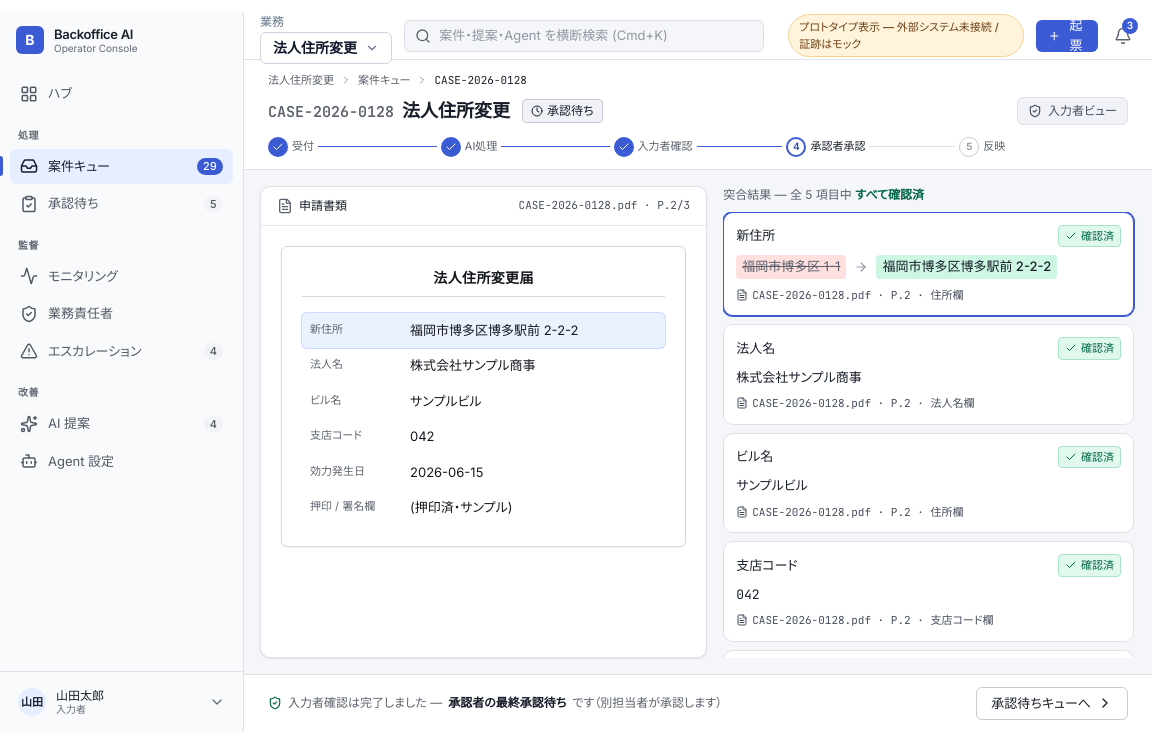
Test: P0-W3 B4: persona 切替で操作ビュー + 承認 gate が変わる (SoD) › 入力者 persona では承認待ち案件を承認不可、承認者へ切替で最終承認可
Expected: the text "承認者の最終承認待ち" is shown, [448, 694, 566, 712]
Note: 操作者を承認者 (鈴木課長) に切替 → 承認者ビュー → SoD 成立 (入力者≠承認者) で最終承認可
Select "鈴木課長（承認者）" in the dropdown named "操作者（デモ用の担当者）の切替" at [80, 696], box [10, 682, 233, 722]
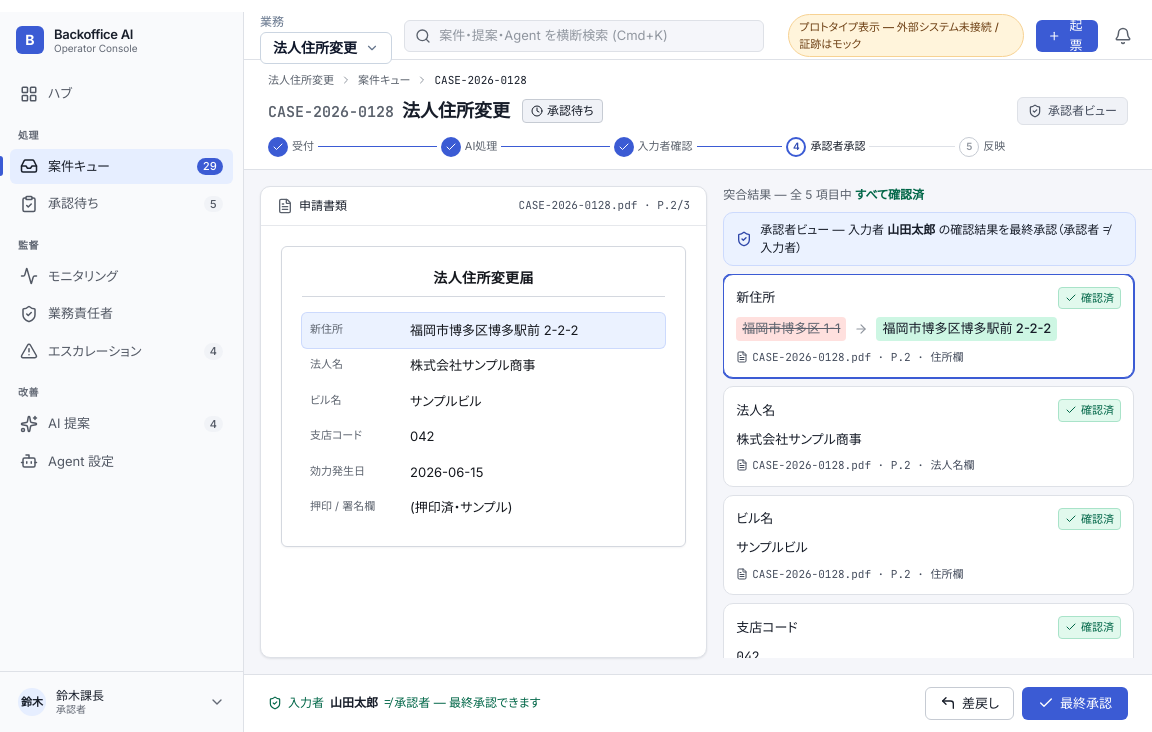
Now the button "最終承認" is enabled, box [1022, 686, 1128, 720]
